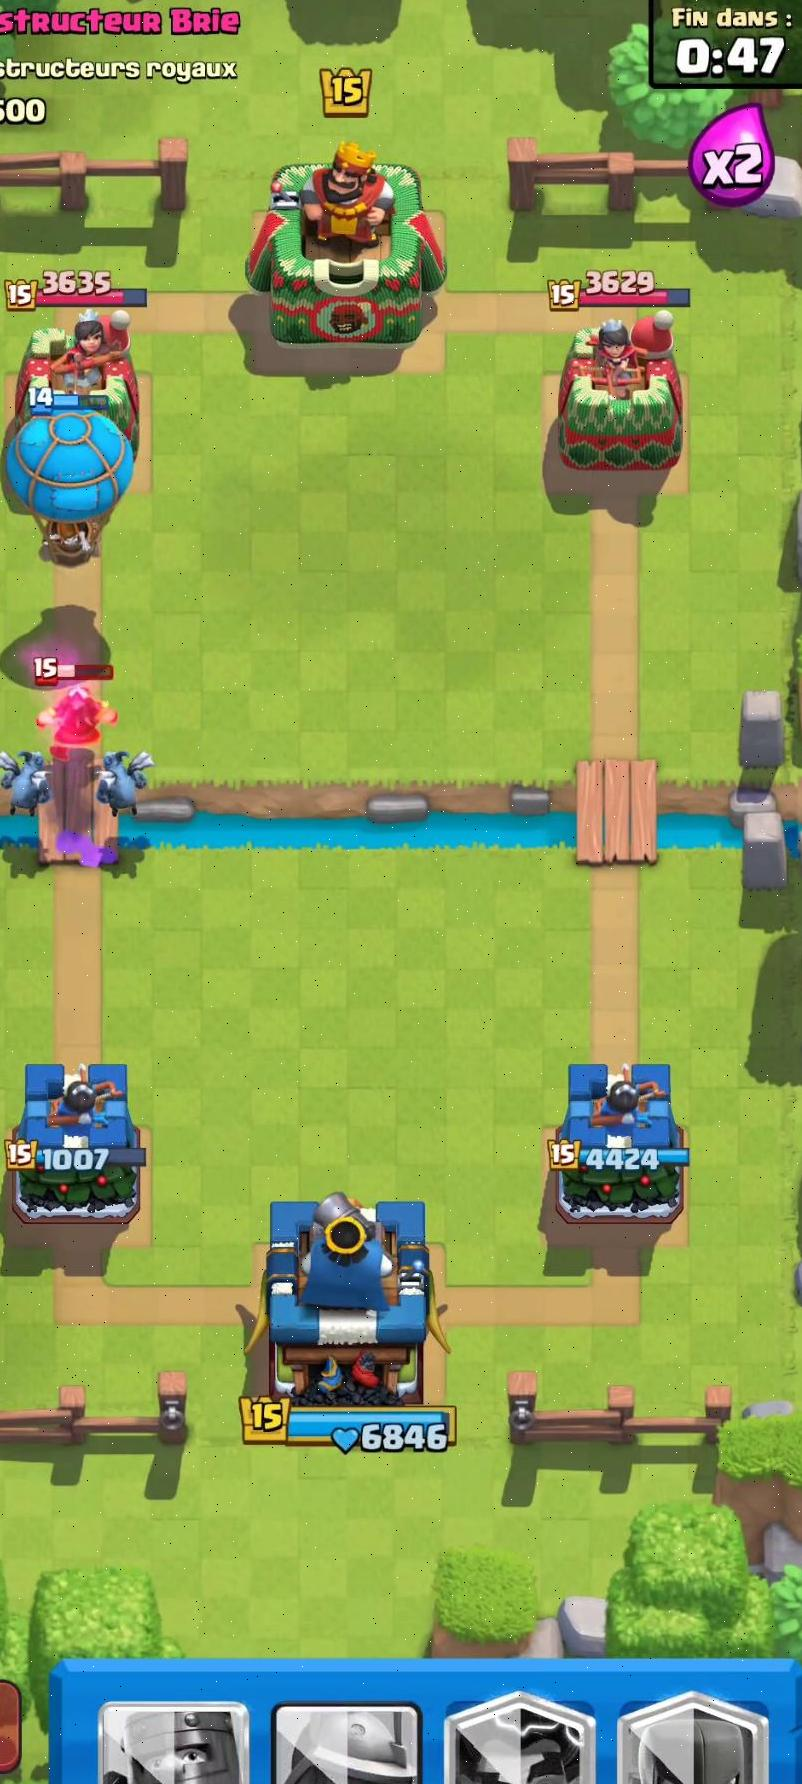enemy_electro_wizard: (27, 656, 126, 742)
player_balloon: (0, 388, 146, 568)
player_minions: (86, 742, 158, 819), (0, 743, 56, 816)
